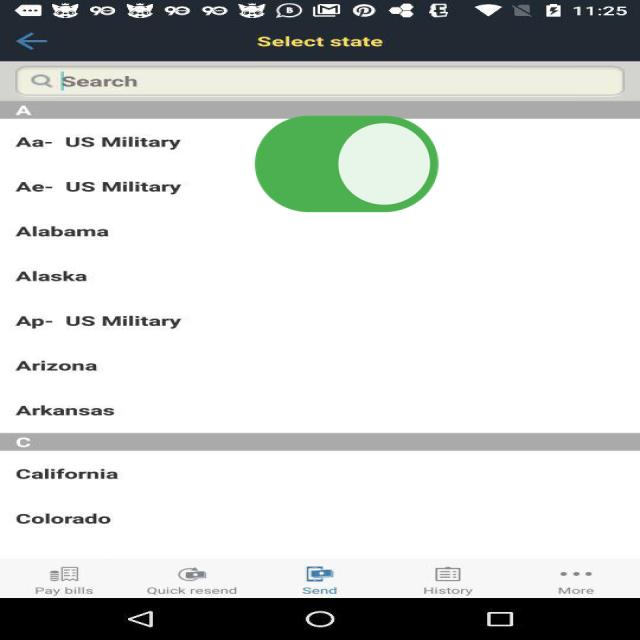social proof: (246, 78, 447, 256)
